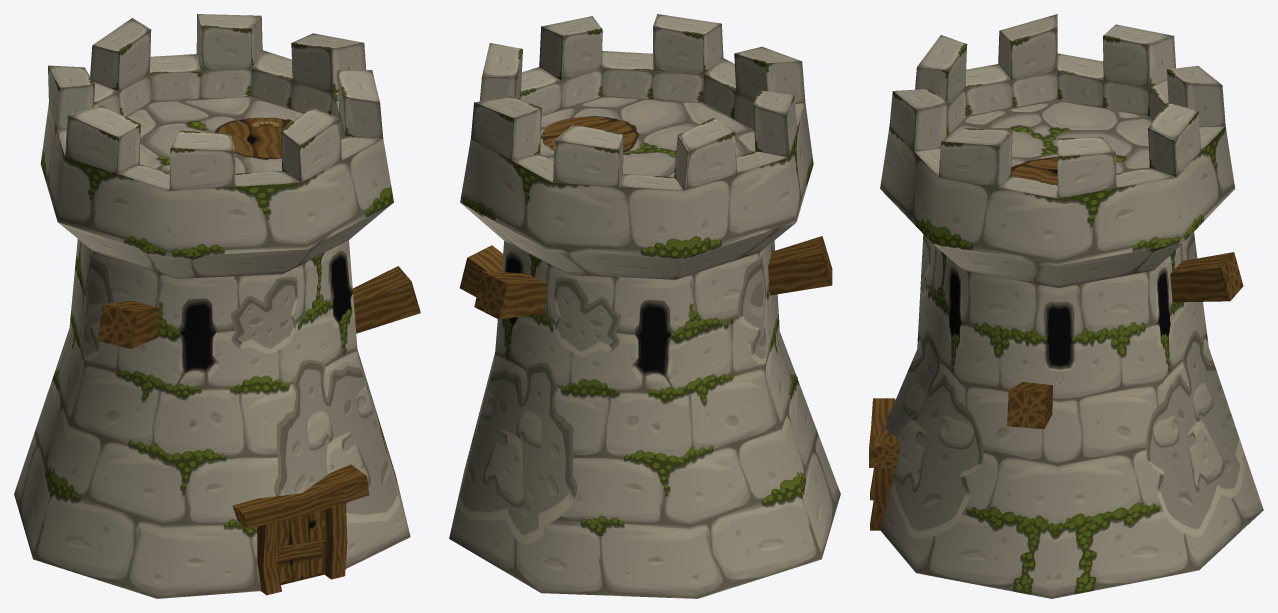
The model's file is defense_tower.FBX.
The picture shows the model from 3 angles, left to right: view 1: azimuth 30°, elevation 25°; view 2: azimuth 150°, elevation 25°; view 3: azimuth 270°, elevation 25°; orthographic projection.
Visible parts, largest first — view 1: defense tower; view 2: defense tower; view 3: defense tower.
Boxes of the visible parts, bbox=[...] form: defense tower: bbox=[14, 14, 420, 598]; defense tower: bbox=[449, 14, 840, 598]; defense tower: bbox=[869, 14, 1263, 598].
Bounding box in the file's own units: 56.03 × 63.64 × 52.79.
